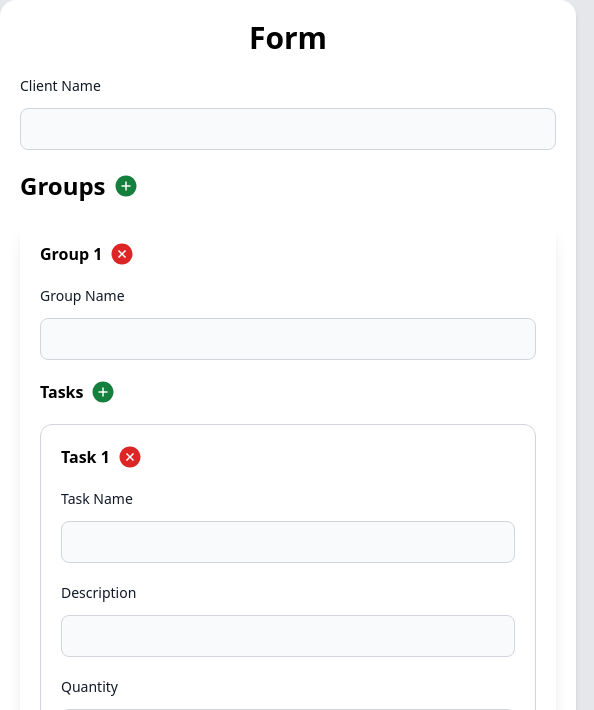
Test case: DynamicForm Component › adds a new task when clicking the "+" button
Click the button named "Add Task".
click(104, 392)  # box [92,380,116,404]
(page scrolled)
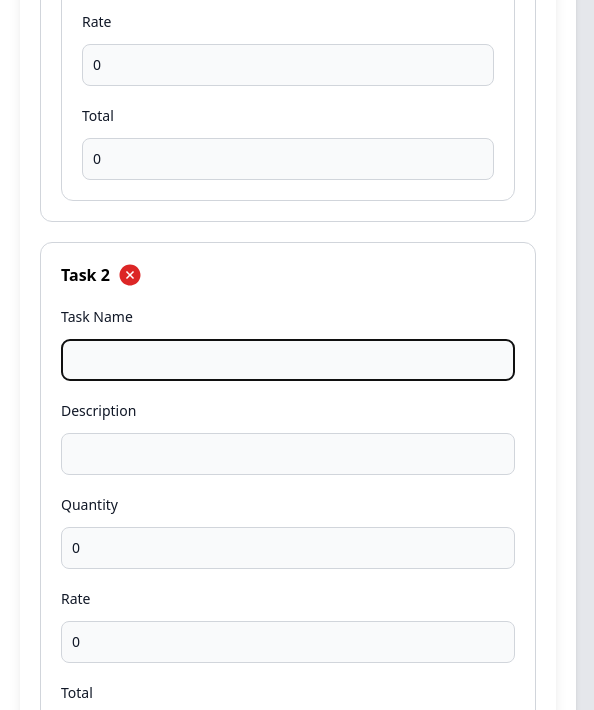
Expected: the heading "Task 2" is shown, [61,263,110,287]
